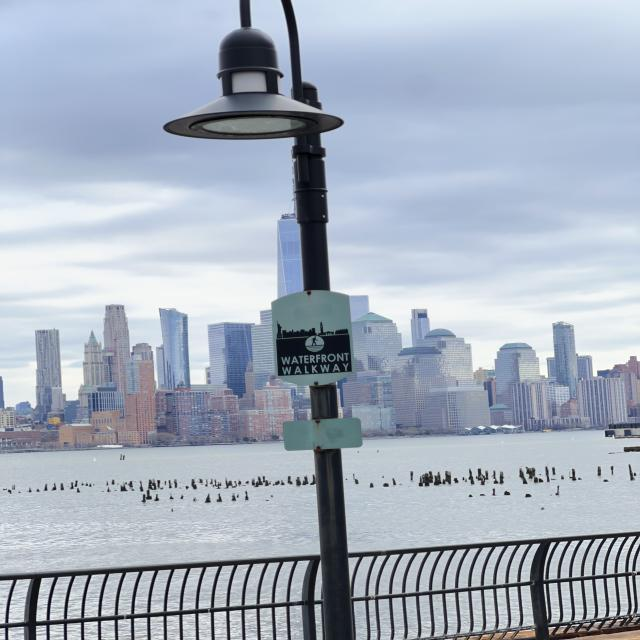WTC: (277, 210, 302, 297)
